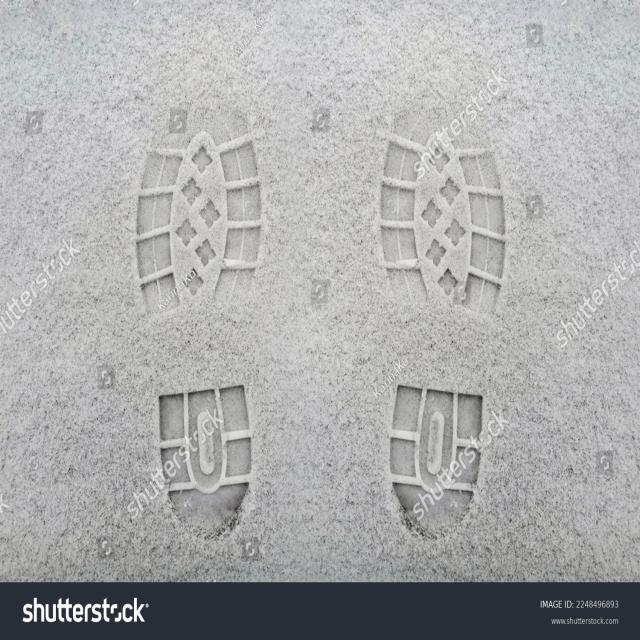human_foot_print: (118, 91, 298, 552), (374, 85, 506, 551)
